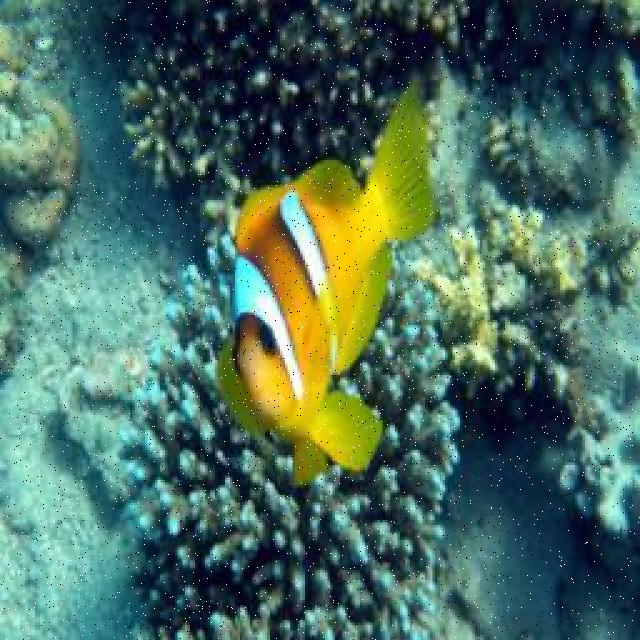fish: (214, 88, 438, 485)
reefs: (100, 231, 462, 638), (118, 3, 471, 232), (416, 204, 578, 391)
